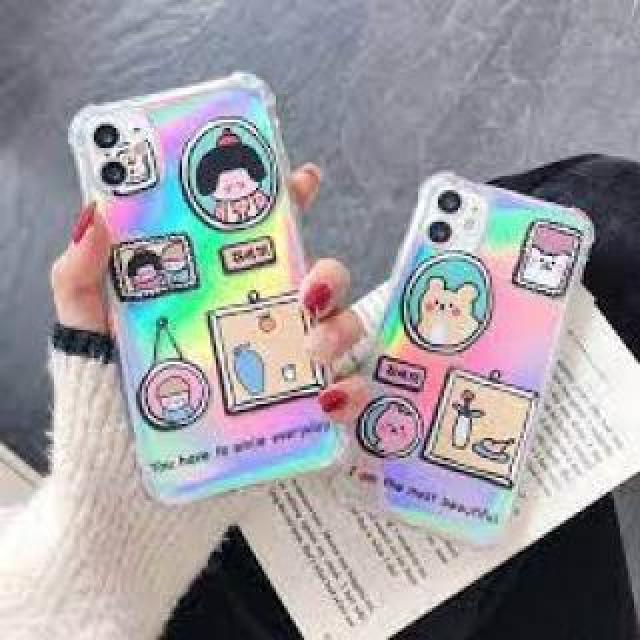smart phone: (108, 49, 350, 544), (348, 160, 572, 588)
